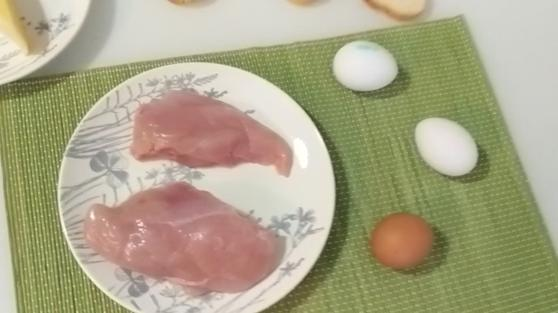chicken_fillet: (88, 184, 290, 290), (134, 85, 295, 174)
egg: (372, 212, 445, 270), (414, 116, 481, 176), (331, 41, 400, 92)
